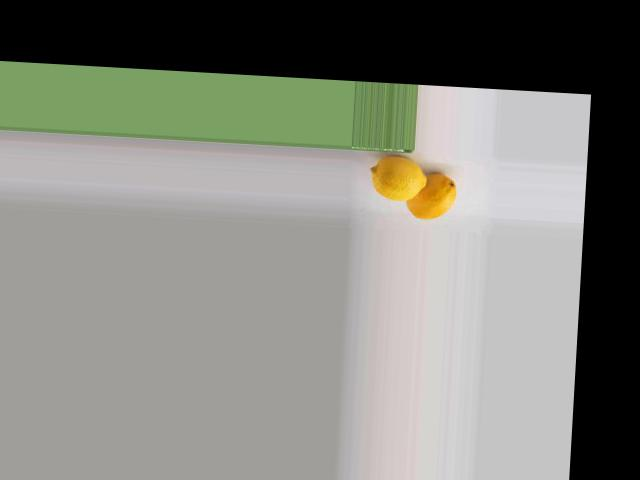lemon: (408, 175, 459, 222)
